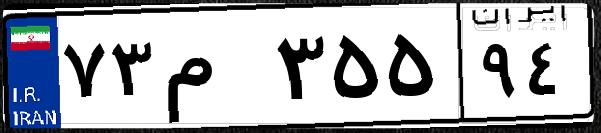3: (270, 28, 330, 110), (110, 28, 158, 98)
4: (525, 38, 570, 115)
5: (385, 28, 445, 110), (330, 28, 385, 110)
7: (57, 26, 110, 100)
9: (475, 38, 525, 113)
م: (158, 20, 270, 120)
